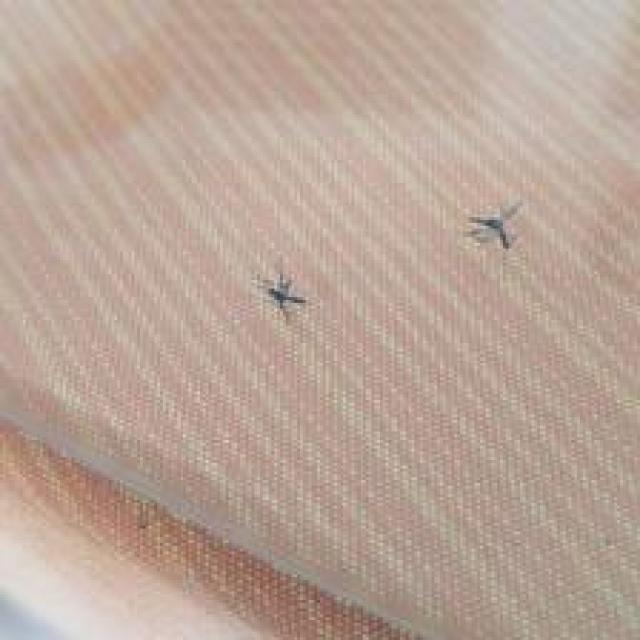Aedes albopictus: (464, 200, 524, 251)
